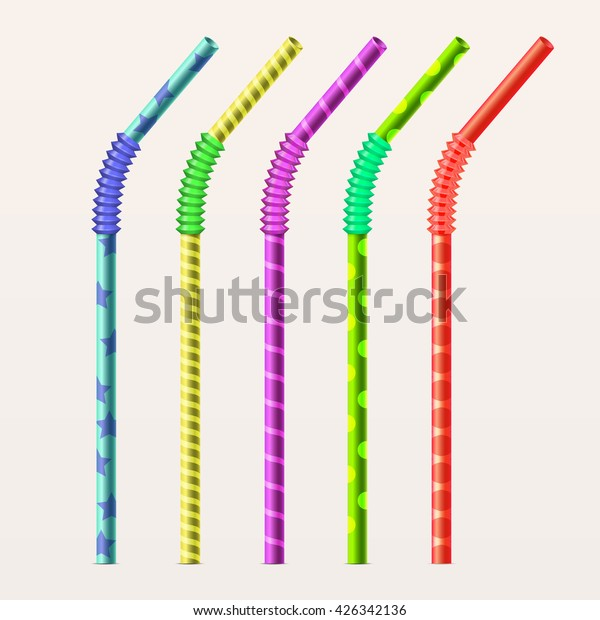Drinking Straw: (417, 34, 559, 566), (85, 32, 223, 569), (257, 32, 390, 567), (172, 33, 305, 565), (342, 32, 472, 568)
